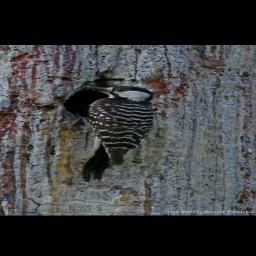Woodpecker: (77, 83, 162, 182)
